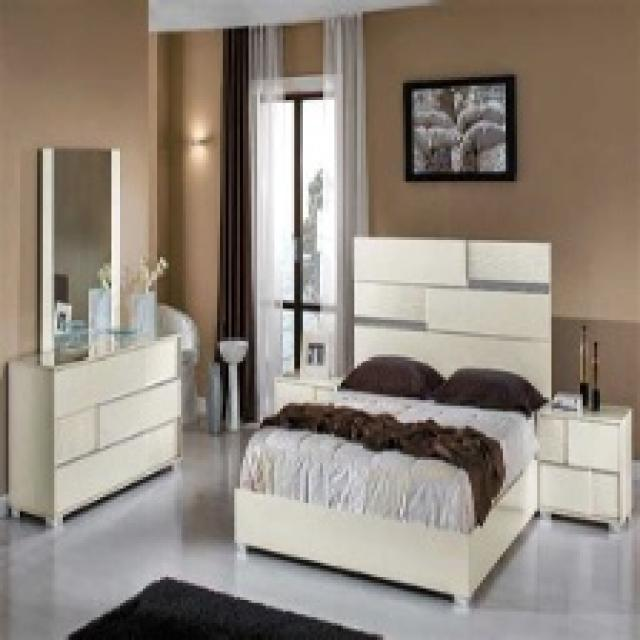Bed: (232, 234, 552, 606)
